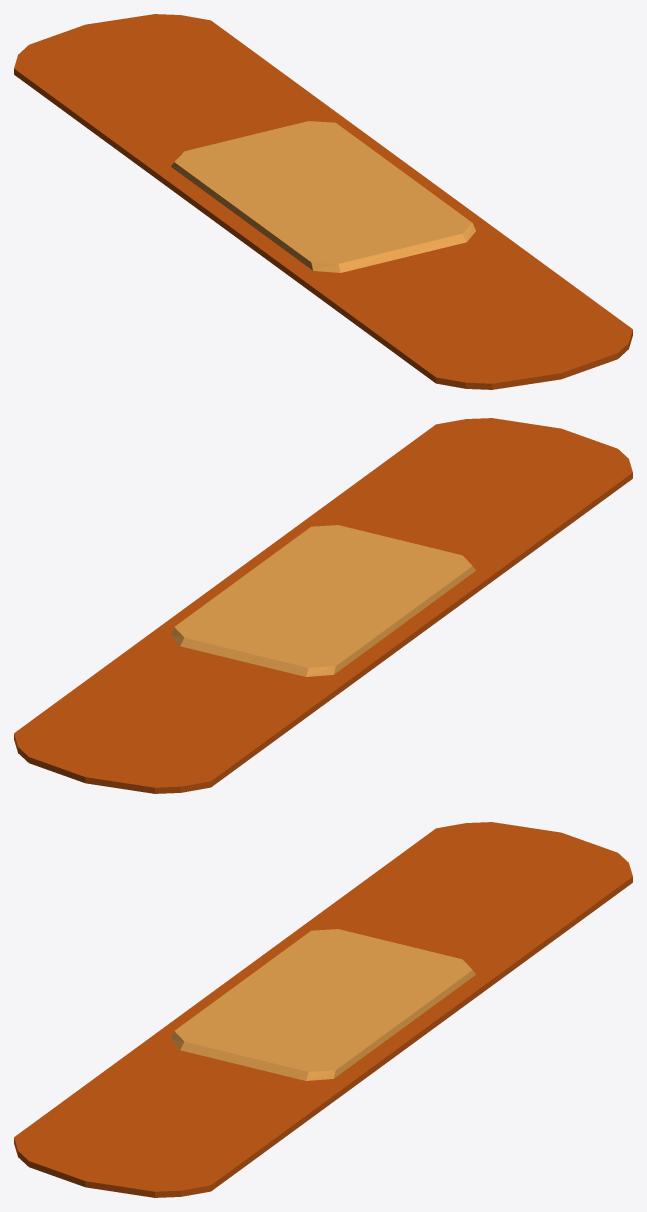
File: bandaid.obj
3 renders of one model, top to bottom at view 1: azimuth 30°, elevation 25°; view 2: azimuth 150°, elevation 25°; view 3: azimuth 330°, elevation 25°, orthographic.
Size of the model in its own units: 0.5661 by 0.0445 by 2.37.
